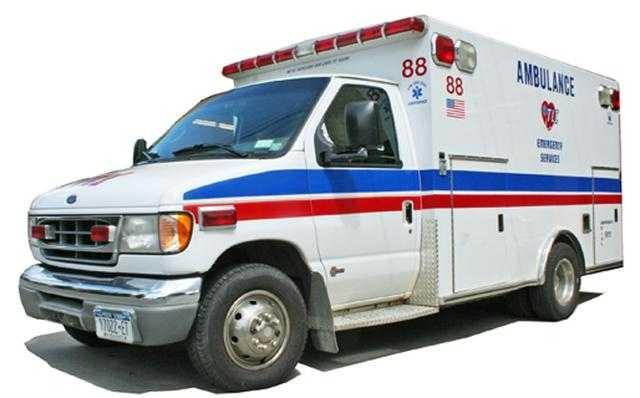car: (18, 13, 624, 391)
